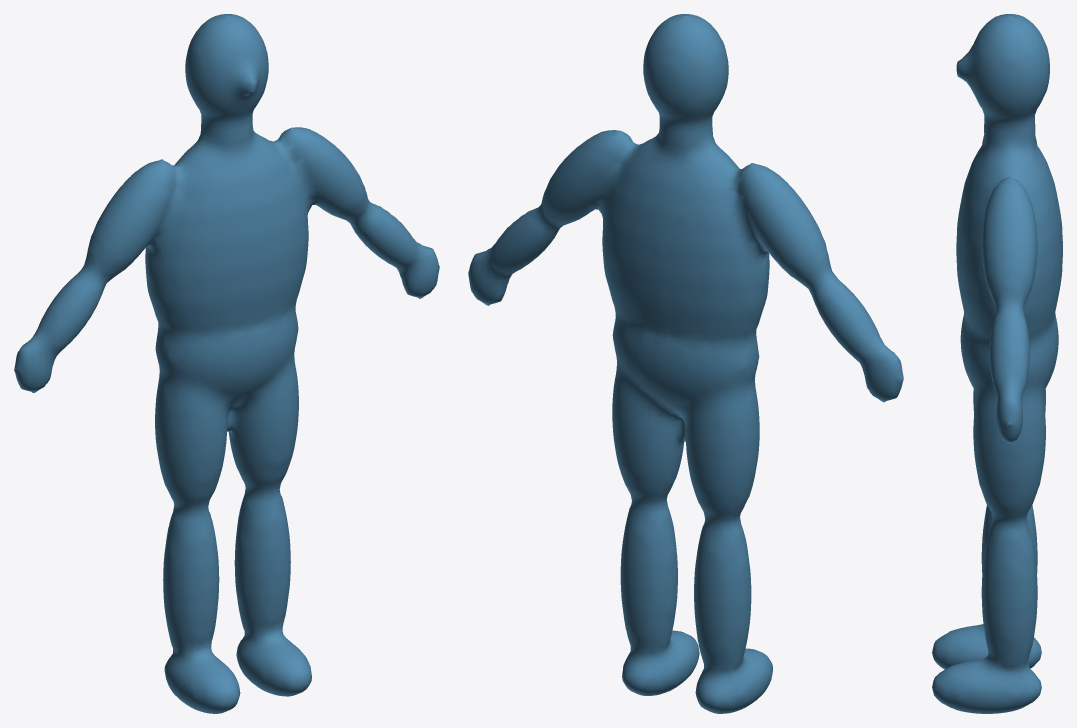
Rendered from motion-fixture.glb.
3 renders of one model, left to right at view 1: azimuth 30°, elevation 25°; view 2: azimuth 150°, elevation 25°; view 3: azimuth 270°, elevation 25°, orthographic. The views are drawn at different scales.
Visible parts, largest first — view 1: SYNTHETIC_MOTION_QA_MANNEQUIN; view 2: SYNTHETIC_MOTION_QA_MANNEQUIN; view 3: SYNTHETIC_MOTION_QA_MANNEQUIN.
Boxes of the visible parts, left/top/right/bottom form: SYNTHETIC_MOTION_QA_MANNEQUIN: left=14, top=14, right=439, bottom=713; SYNTHETIC_MOTION_QA_MANNEQUIN: left=468, top=14, right=903, bottom=713; SYNTHETIC_MOTION_QA_MANNEQUIN: left=932, top=14, right=1062, bottom=713.
Size of the model in its own units: 1.19 by 1.8 by 0.315.
